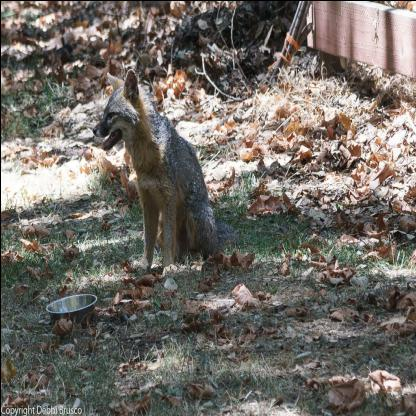zorro: (89, 66, 226, 268)
